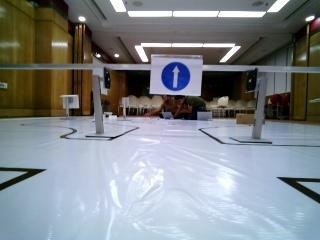straight: (151, 56, 204, 93)
